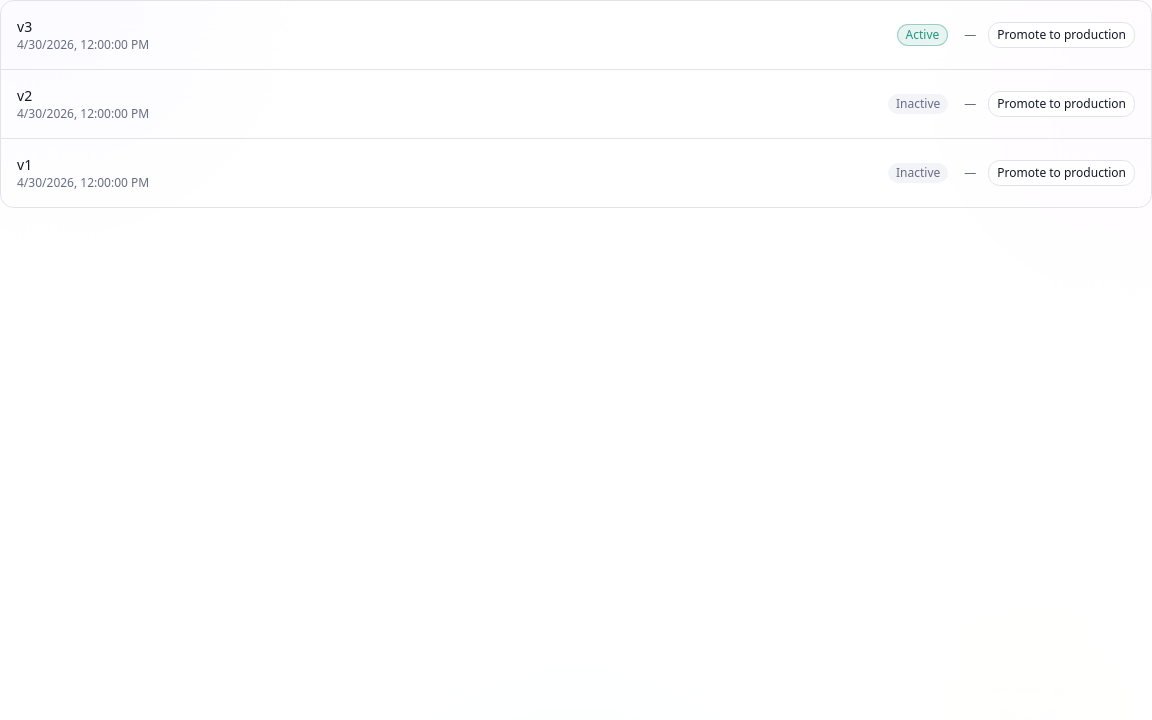
it: AgentVersionsList › labels the initial version diff explicitly
Click the button with test id "agent-version-row-1". click: x=83, y=182
box: 17,155 -> 948,191
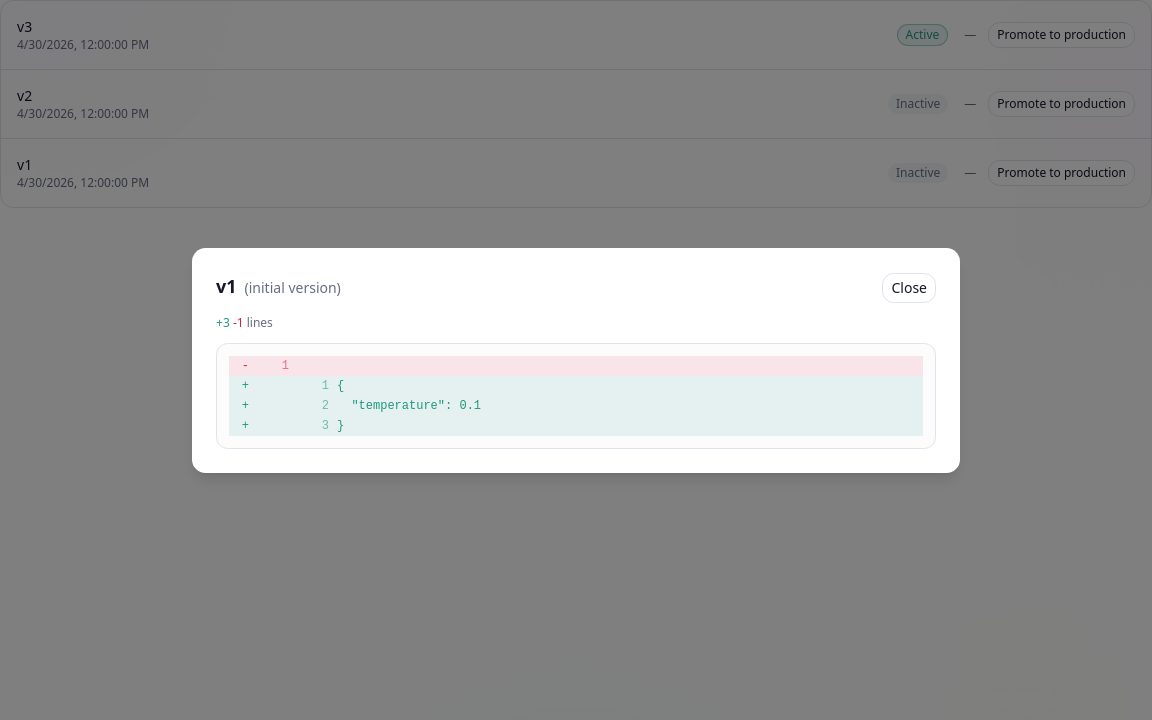
Expected: the dialog with test id "diff-viewer-modal" shows "initial version", 244,278 -> 341,296
